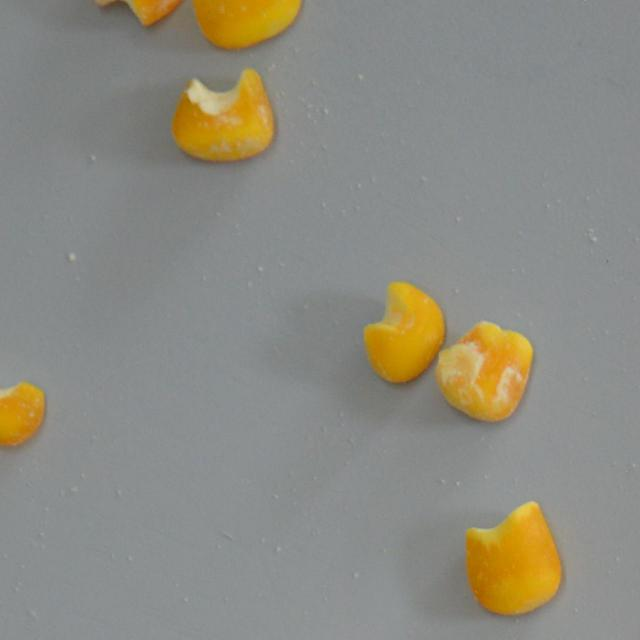dañado: (167, 61, 276, 166), (0, 356, 49, 450)
no_canjicado: (461, 496, 568, 622), (357, 277, 450, 390)
pelicula: (433, 314, 538, 428)
